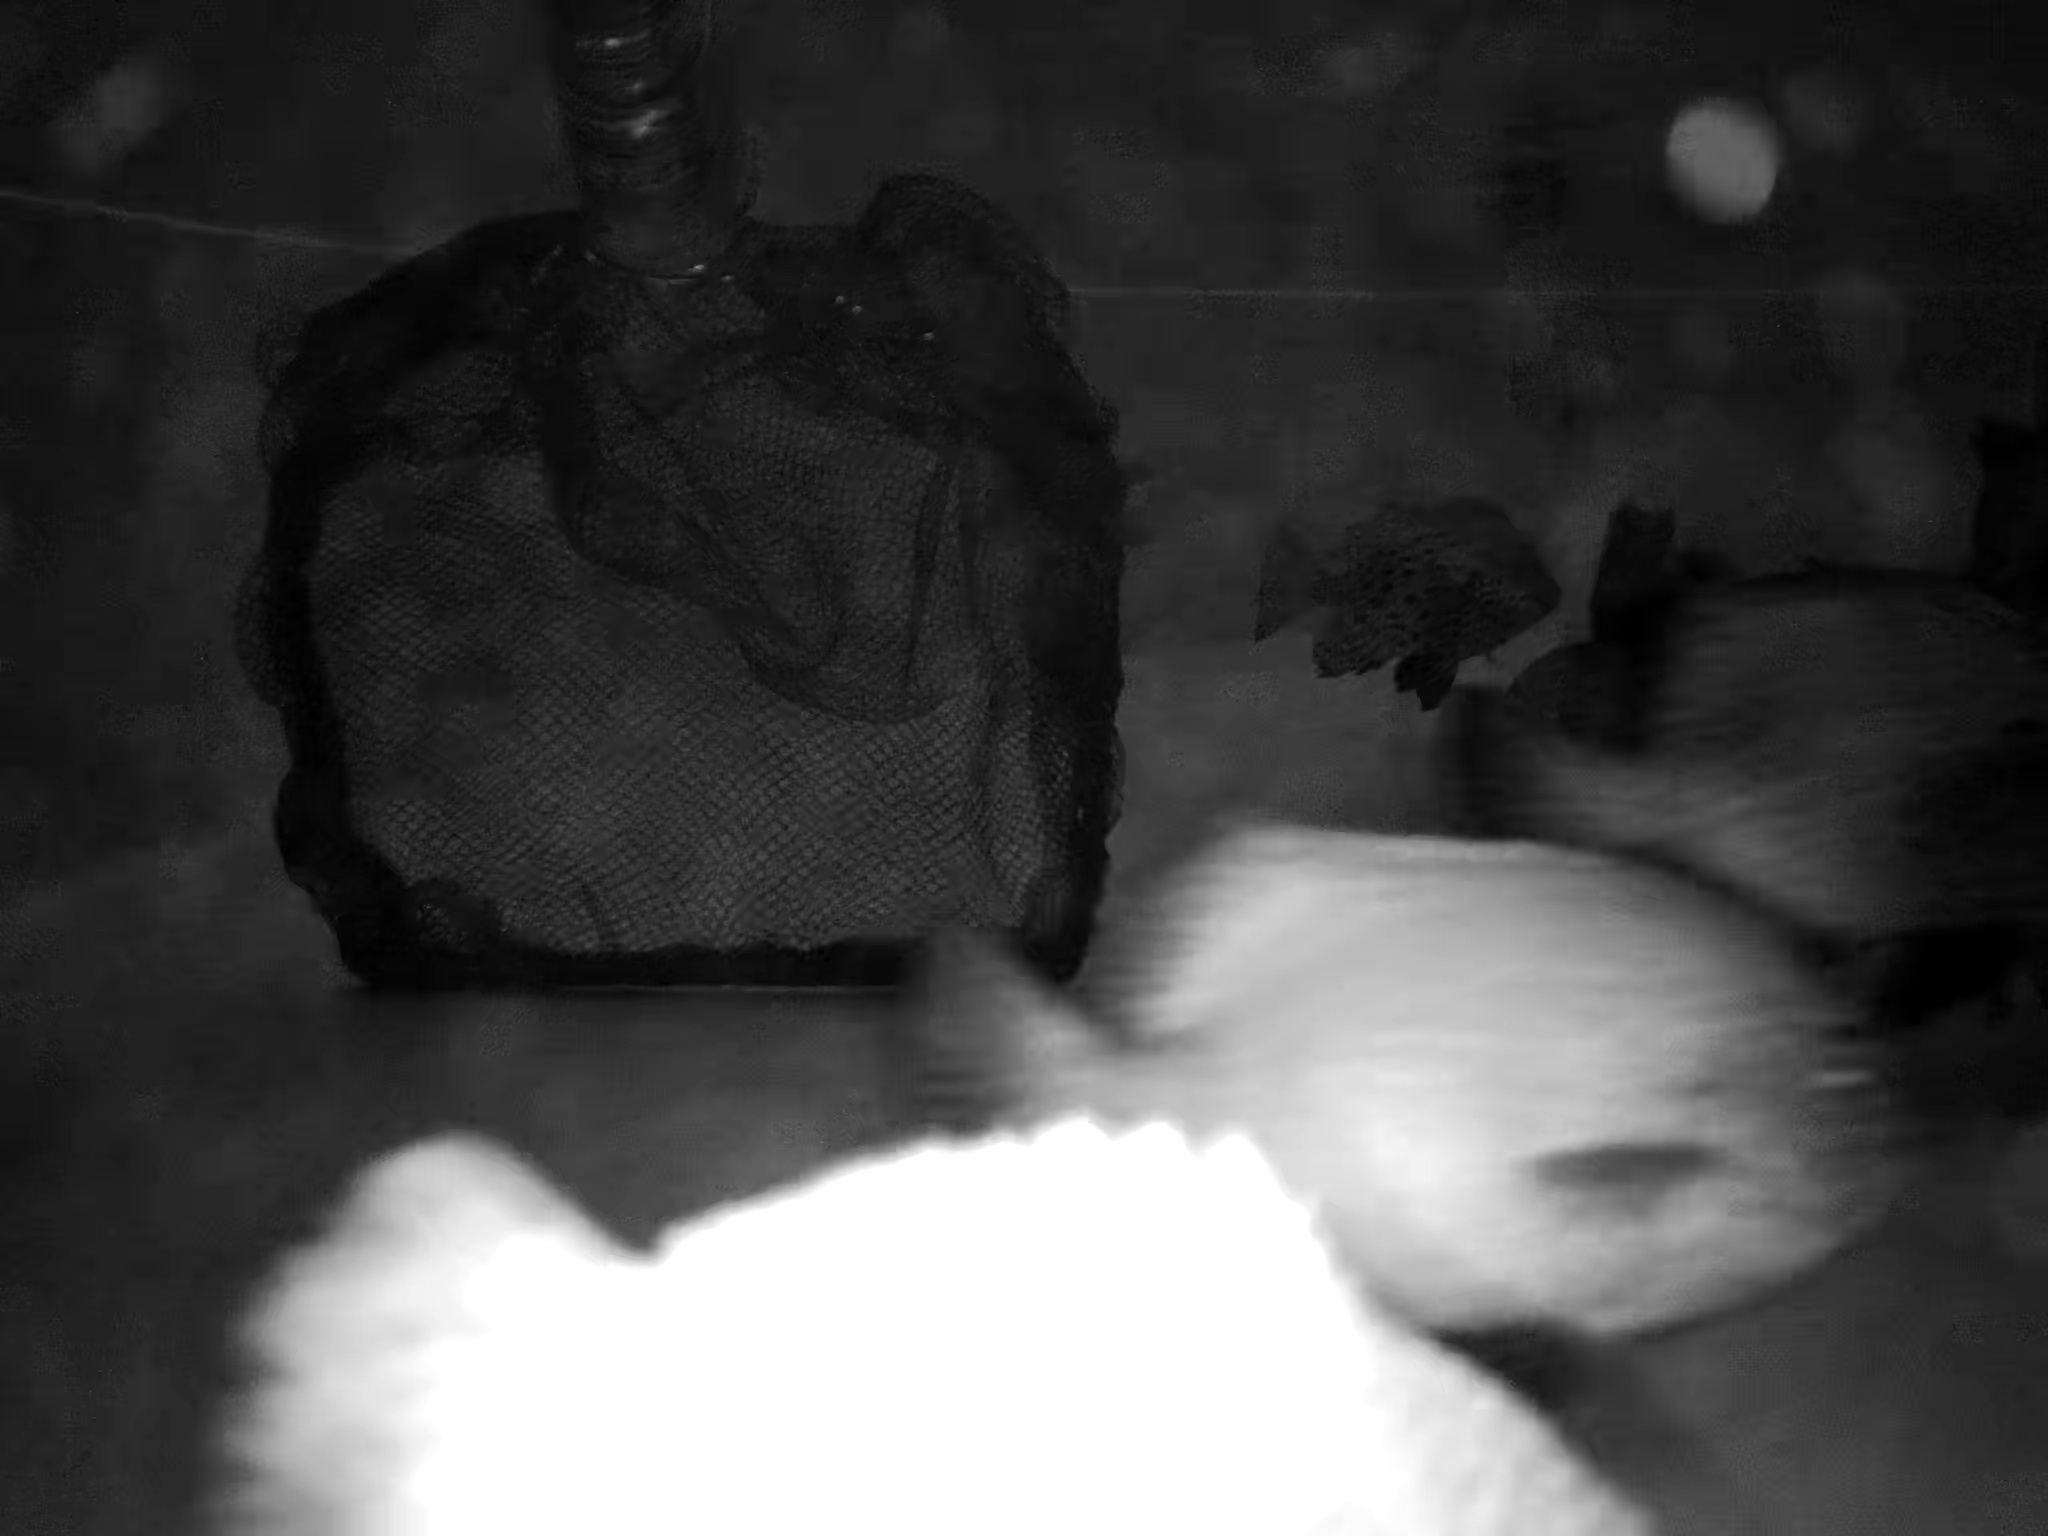fish: (898, 800, 1959, 1344), (187, 1115, 1463, 1536), (1471, 578, 2048, 887), (1237, 470, 1566, 699)
